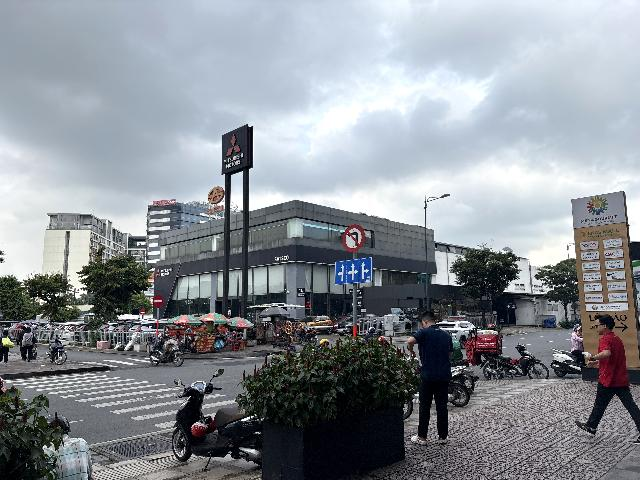cam-di-nguoc-chieu: (153, 295, 163, 308)
cam-re-trai: (343, 224, 365, 253)
